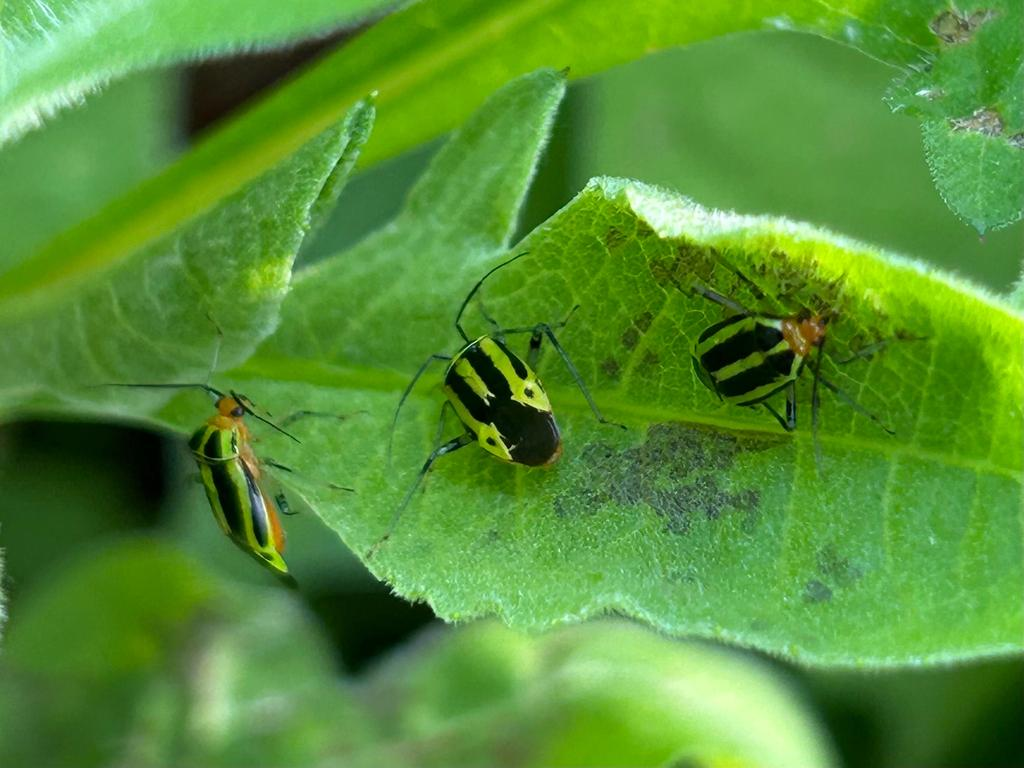plant_bugs: (361, 224, 648, 539), (73, 338, 354, 612), (663, 249, 897, 473)
